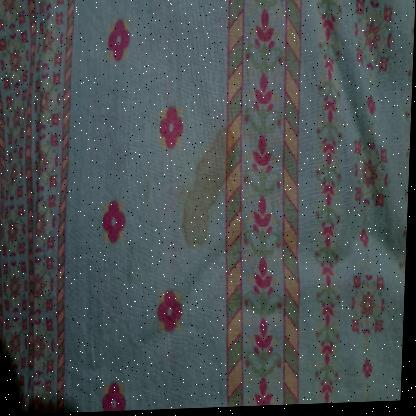spot: (171, 119, 249, 265)
